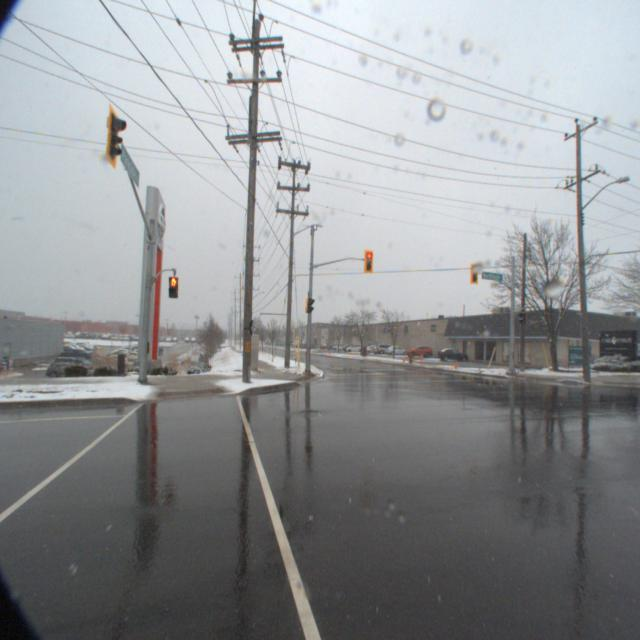Car: (433, 346, 469, 362), (402, 344, 432, 358)
